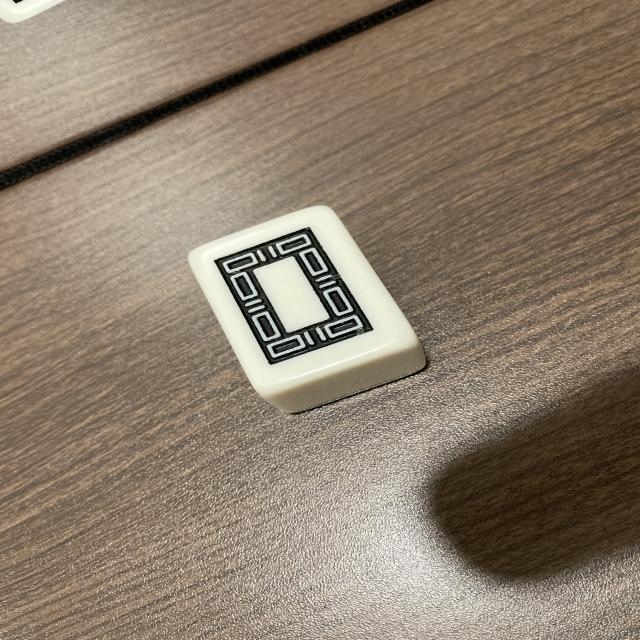bai: (195, 202, 411, 397)
